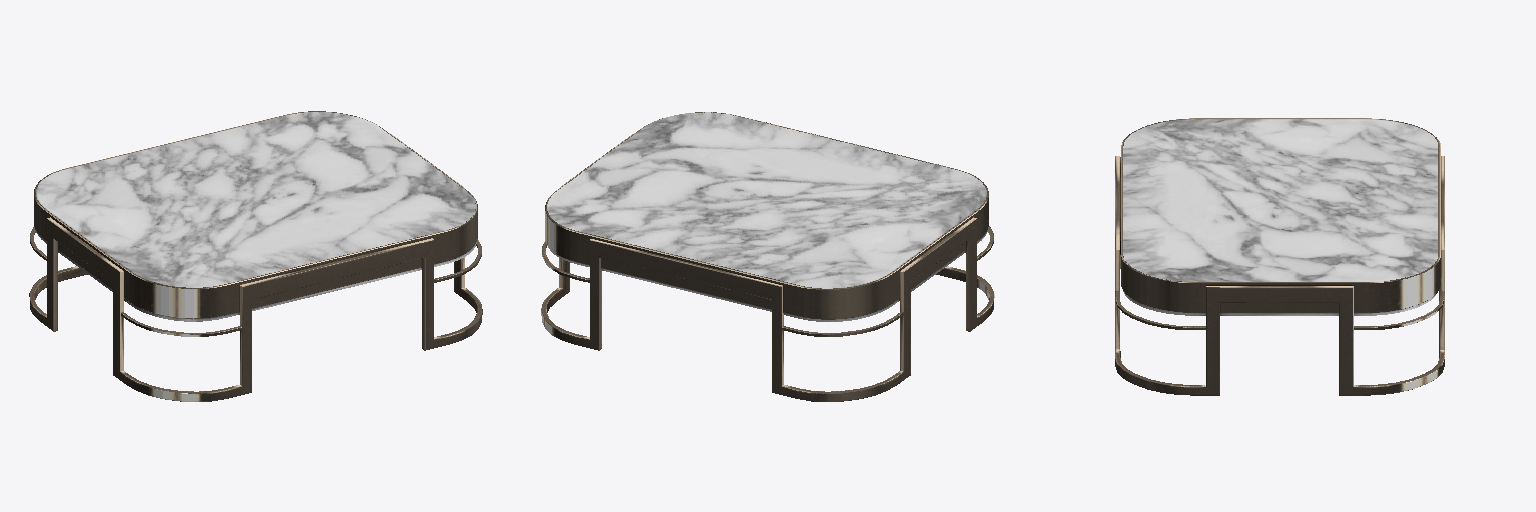
3 views of the same model, side by side, from view 1: azimuth 30°, elevation 25°; view 2: azimuth 150°, elevation 25°; view 3: azimuth 270°, elevation 25° (orthographic).
Parts seen in each view (by area): view 1: solid_001, solid_002; view 2: solid_001, solid_002; view 3: solid_001, solid_002.
Part boxes in pixels (x1,y1,x2,y2): solid_001: (36,112,476,321); solid_002: (29,111,482,401); solid_001: (547,112,987,321); solid_002: (541,112,994,401); solid_001: (1123,119,1437,315); solid_002: (1115,118,1444,395).
Size of the model in its own units: 2 by 0.6158 by 1.65.
1 materials, 1 textured.